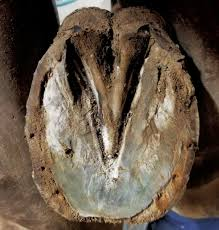horsesole: (24, 23, 199, 224)
